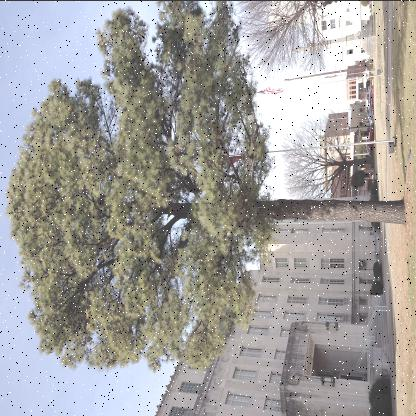Tree: (6, 1, 407, 370), (276, 119, 374, 196), (233, 1, 339, 72)
